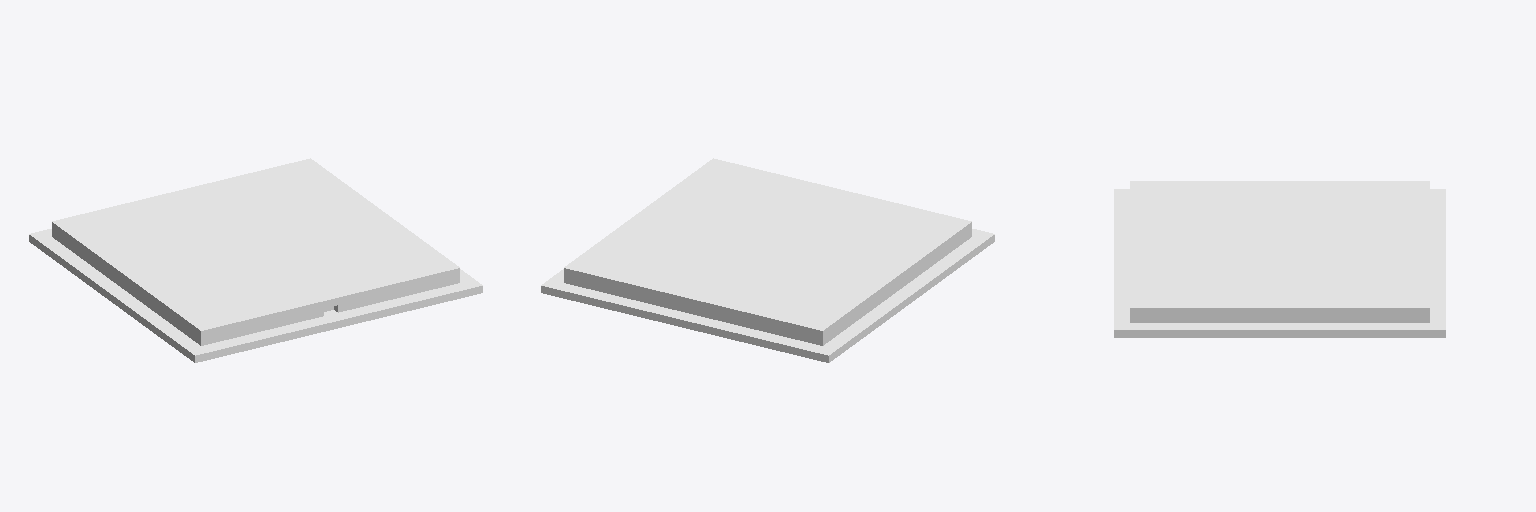
The model's file is floorTileAlternate.obj.
The picture shows the model from 3 angles: view 1: azimuth 30°, elevation 25°; view 2: azimuth 150°, elevation 25°; view 3: azimuth 270°, elevation 25°; orthographic projection.
Parts seen in each view (by area): view 1: object 1; view 2: object 1; view 3: object 1.
Boxes of the visible parts, box(x1,y1,x2,y2) form: object 1: box(29, 158, 482, 362); object 1: box(541, 158, 994, 362); object 1: box(1114, 181, 1445, 337).
Size of the model in its own units: 4 by 0.3 by 4.